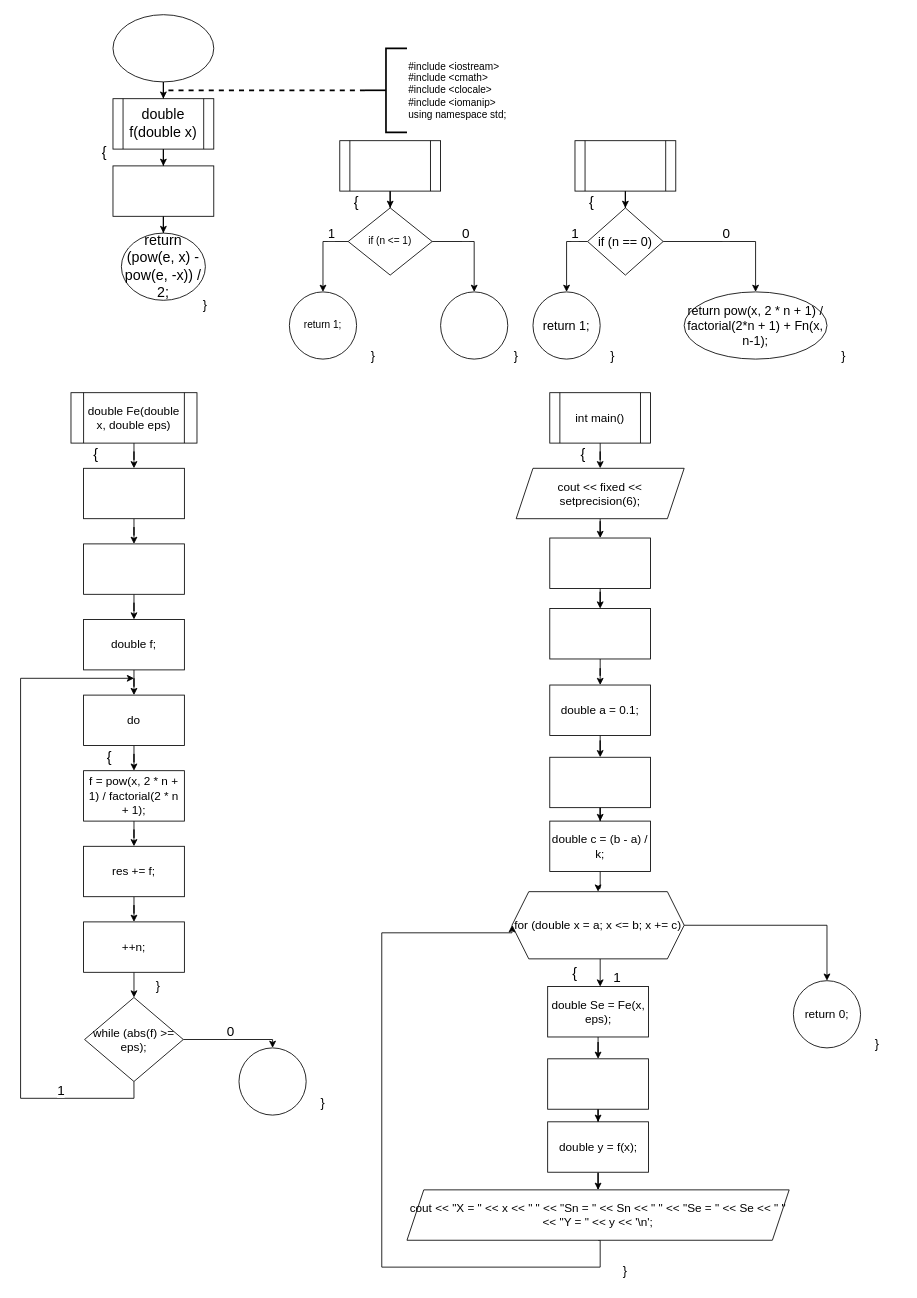
Some shapes in this 917 by 1298 pixel diagram are drawn without their labels. The centre of each missing label's shape, as x and y in pixels:
"double b = 1;" goes at point (600, 782).
"double e = exp(1.0);" goes at point (163, 190).
"double eps = 0.0001;" goes at point (600, 562).
"double factorial(int n)" goes at point (390, 165).
"double Fn(double x, int n)" goes at point (625, 165).
"double n = 0;" goes at point (133, 568).
"double res = 0;" goes at point (133, 493).
"double Sn = Fn(x, 20);" goes at point (597, 1083).
"int k = 10;" goes at point (600, 633).
"return n * factorial(n - 1);" goes at point (474, 325).
"return res;" goes at point (272, 1081).
"Начало" goes at point (163, 48).
